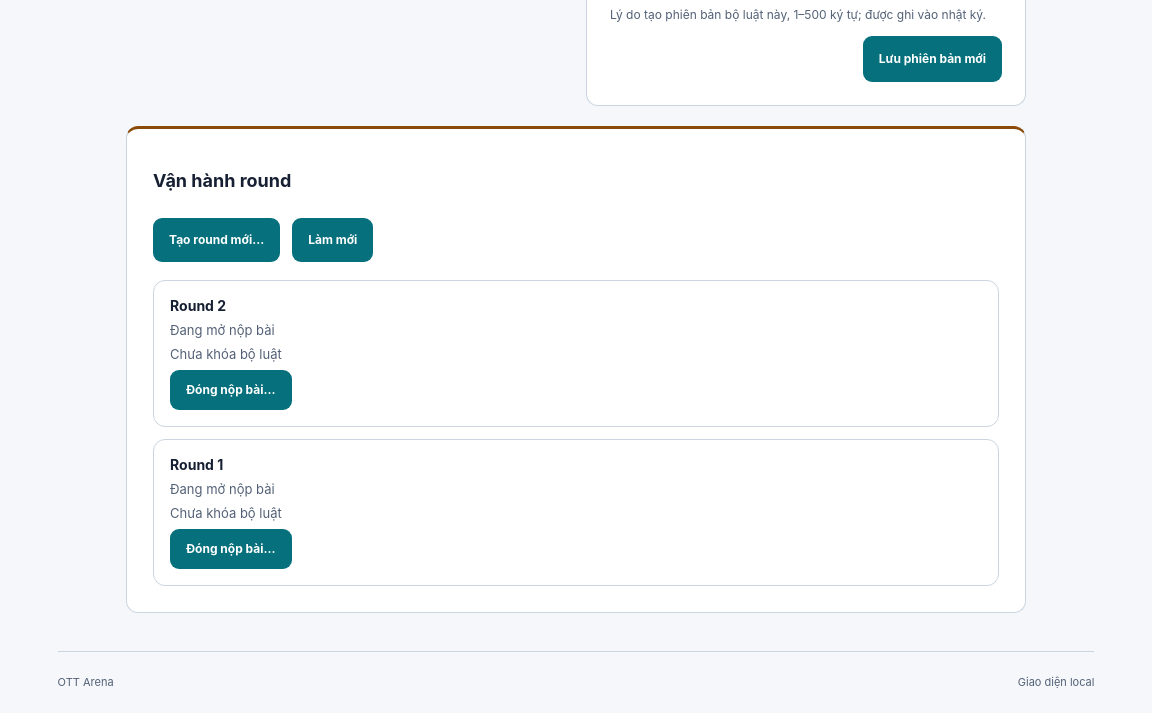
Test: RoundAdmin close errors and UX improvements (loop 104) › renders success message inside the pressed round li and not in round 1 or top-level status, with two rounds and action on round 2
(page scrolled)
Click the 1st button "Đóng nộp bài…" at (231, 390), box left=170, top=370, right=292, bottom=410
(page scrolled)
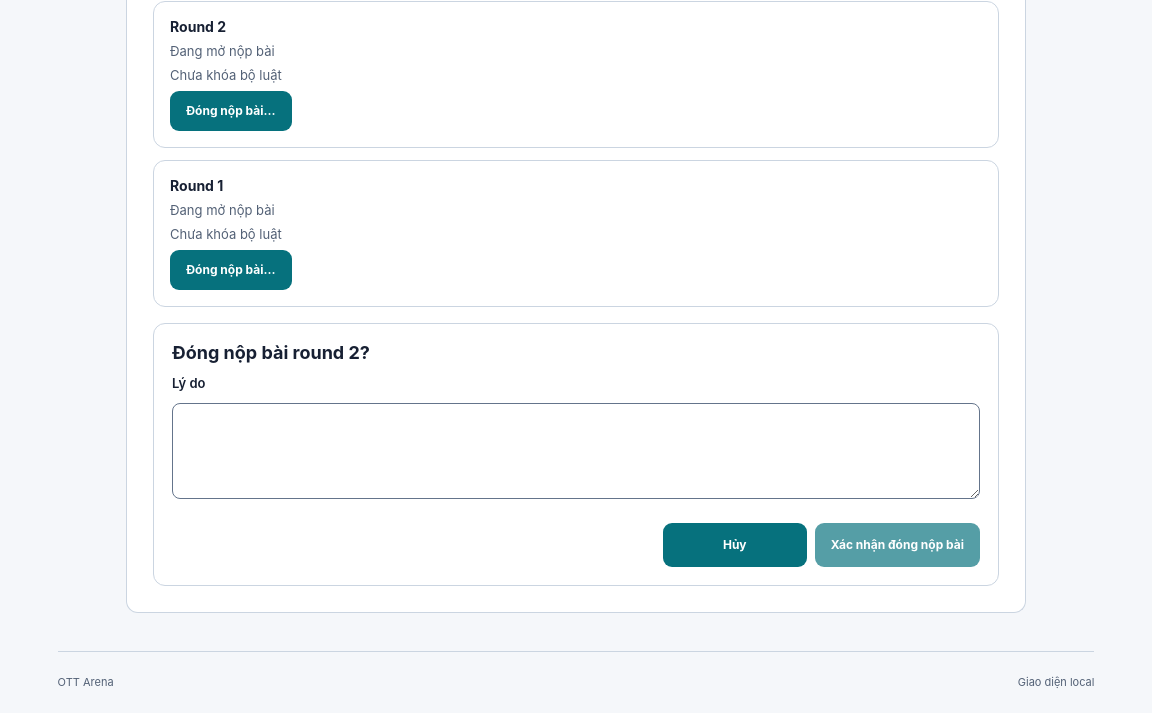
Type "Đóng nộp bài round 2" into the text box labelled "Lý do" at (576, 450), box left=172, top=402, right=980, bottom=498
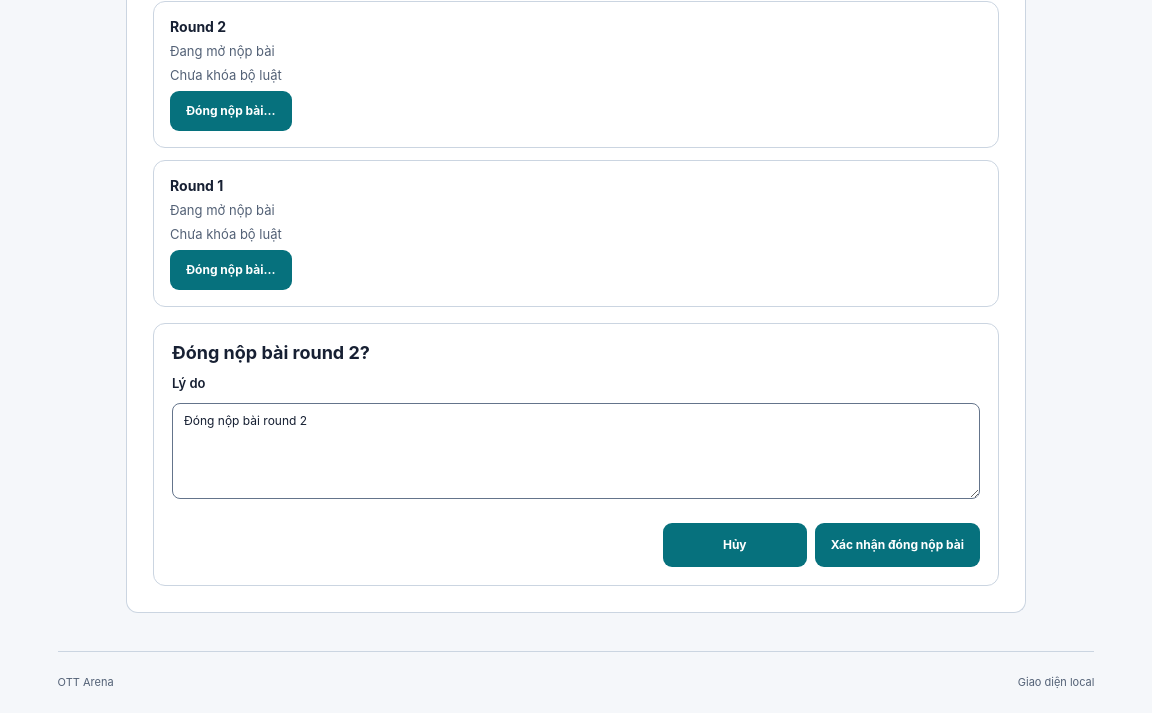
Click the button "Xác nhận đóng nộp bài" at (897, 544), box left=815, top=522, right=980, bottom=566
(page scrolled)
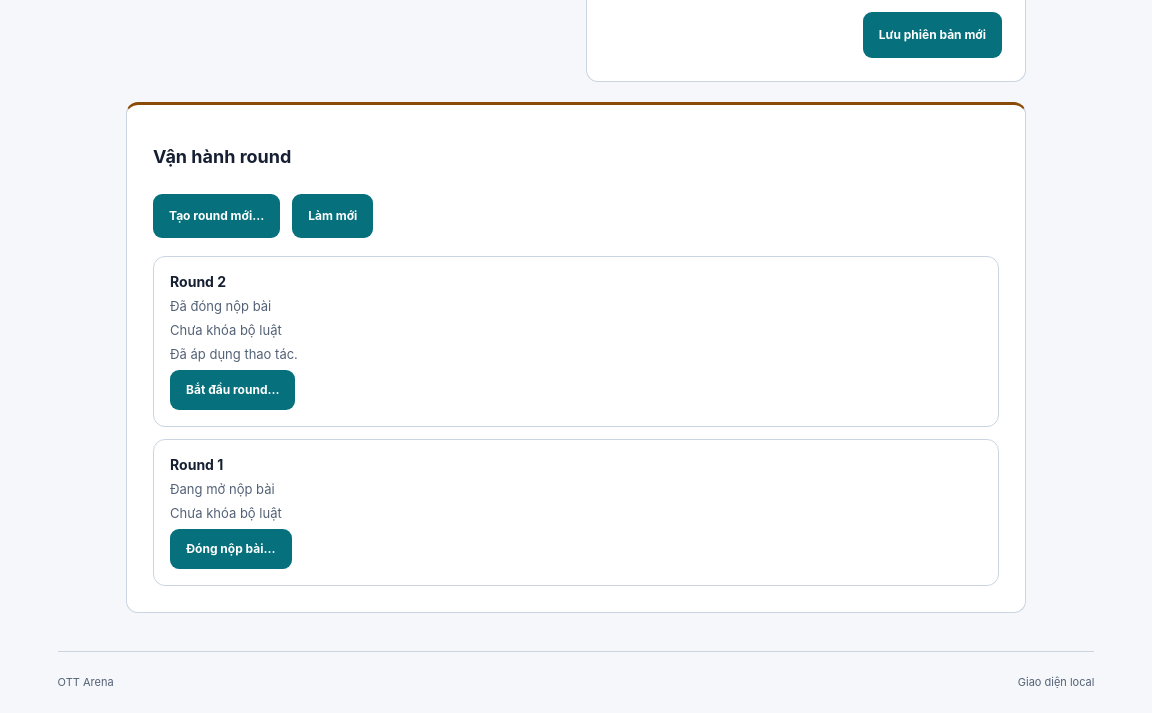
Now the message reads "Đã áp dụng thao tác.", box left=170, top=346, right=298, bottom=362
